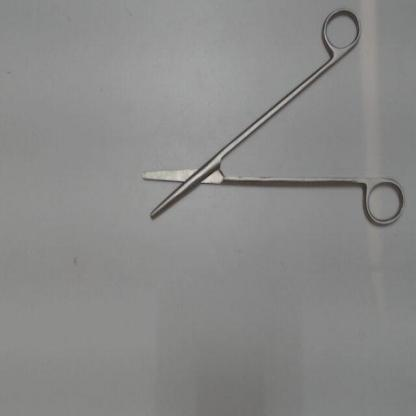9 Metzenbaum Scissors: (140, 2, 408, 231)
